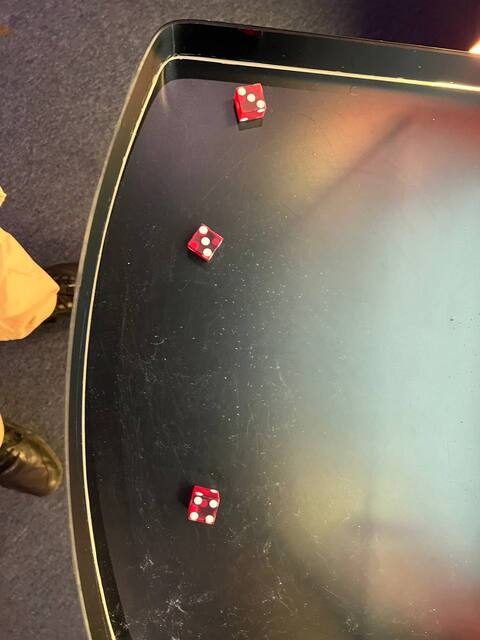four: (183, 493, 222, 528)
three: (185, 222, 224, 261), (231, 80, 268, 111)
